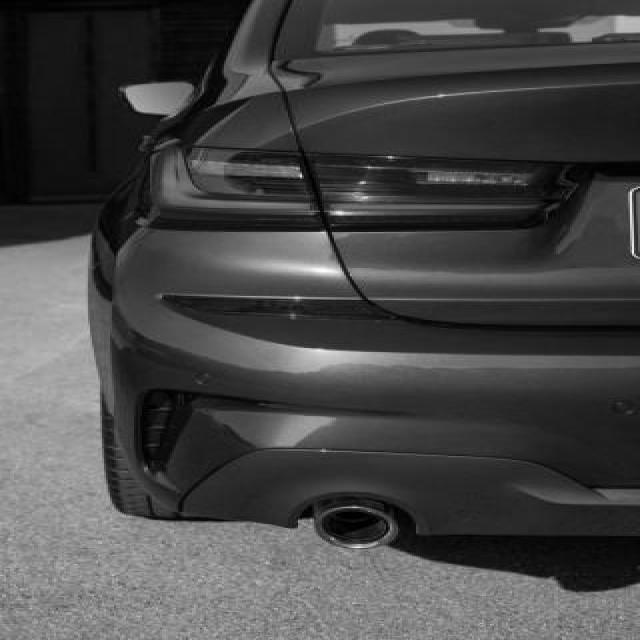Car: (90, 0, 638, 547)
